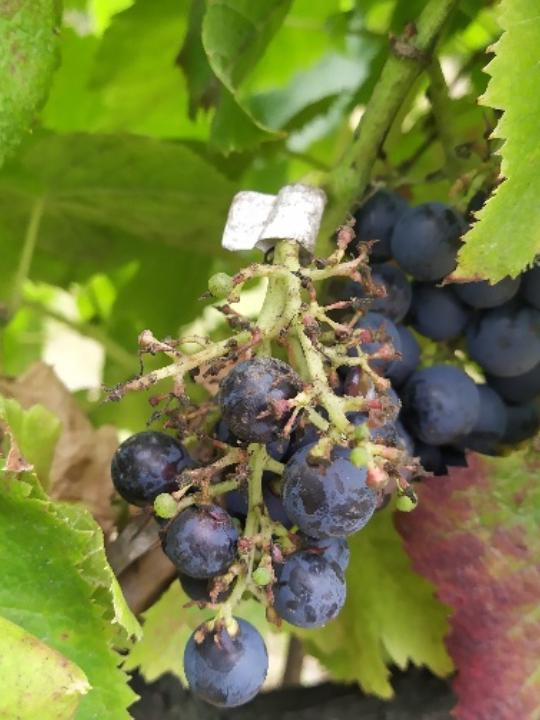grape: (101, 221, 432, 714)
